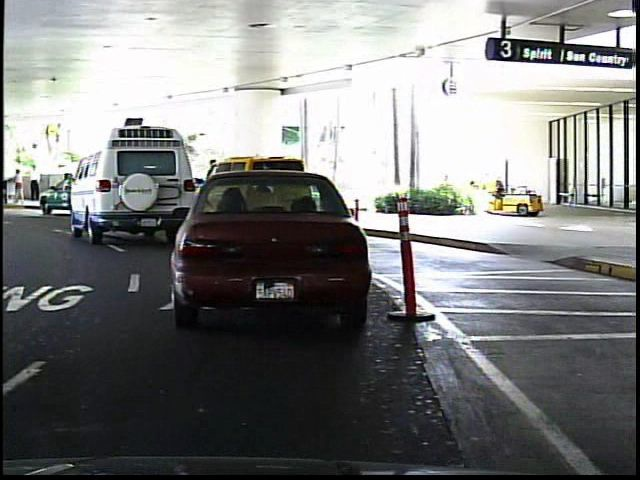person: (12, 164, 29, 204), (29, 161, 44, 203)
